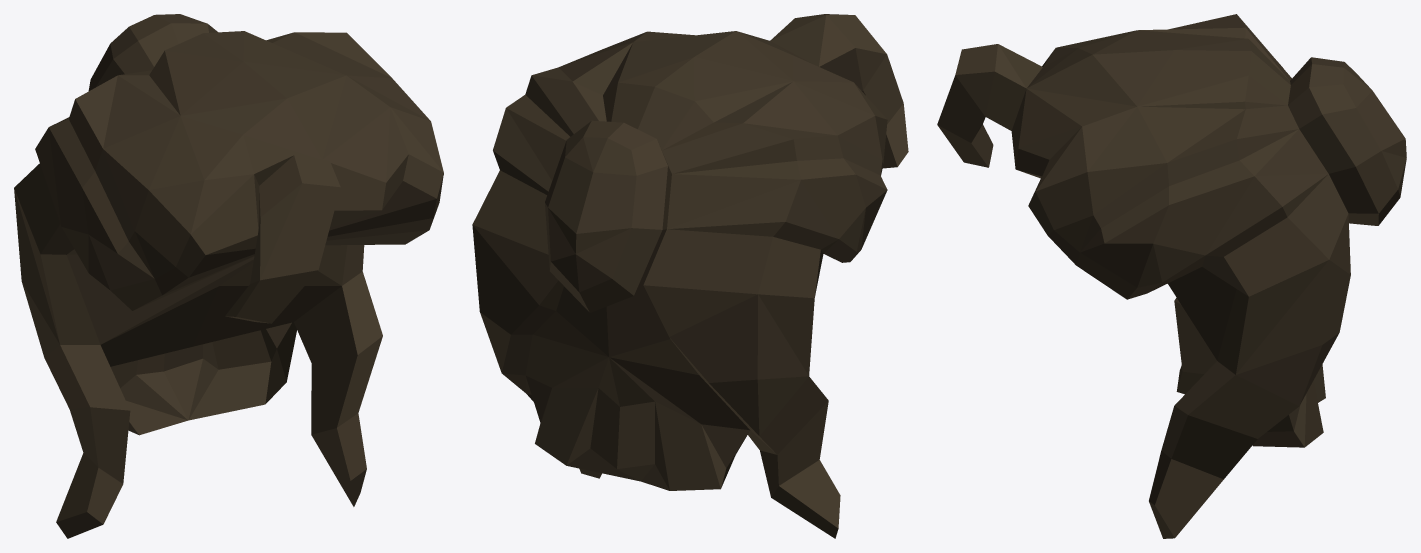
Rendered from SM_Chr_Attach_Hair_Female_03.fbx.
3 views of the same model, side by side, from view 1: azimuth 30°, elevation 25°; view 2: azimuth 150°, elevation 25°; view 3: azimuth 270°, elevation 25° (orthographic). The views are drawn at different scales.
Visible parts, largest first — view 1: SM_Chr_Attach_Hair_Female_03; view 2: SM_Chr_Attach_Hair_Female_03; view 3: SM_Chr_Attach_Hair_Female_03.
Part boxes in pixels (left/top/right/bottom): SM_Chr_Attach_Hair_Female_03: left=14, top=14, right=443, bottom=538; SM_Chr_Attach_Hair_Female_03: left=472, top=14, right=908, bottom=538; SM_Chr_Attach_Hair_Female_03: left=937, top=14, right=1406, bottom=538.
Bounding box in the file's own units: 26.1 × 34.74 × 33.54.
